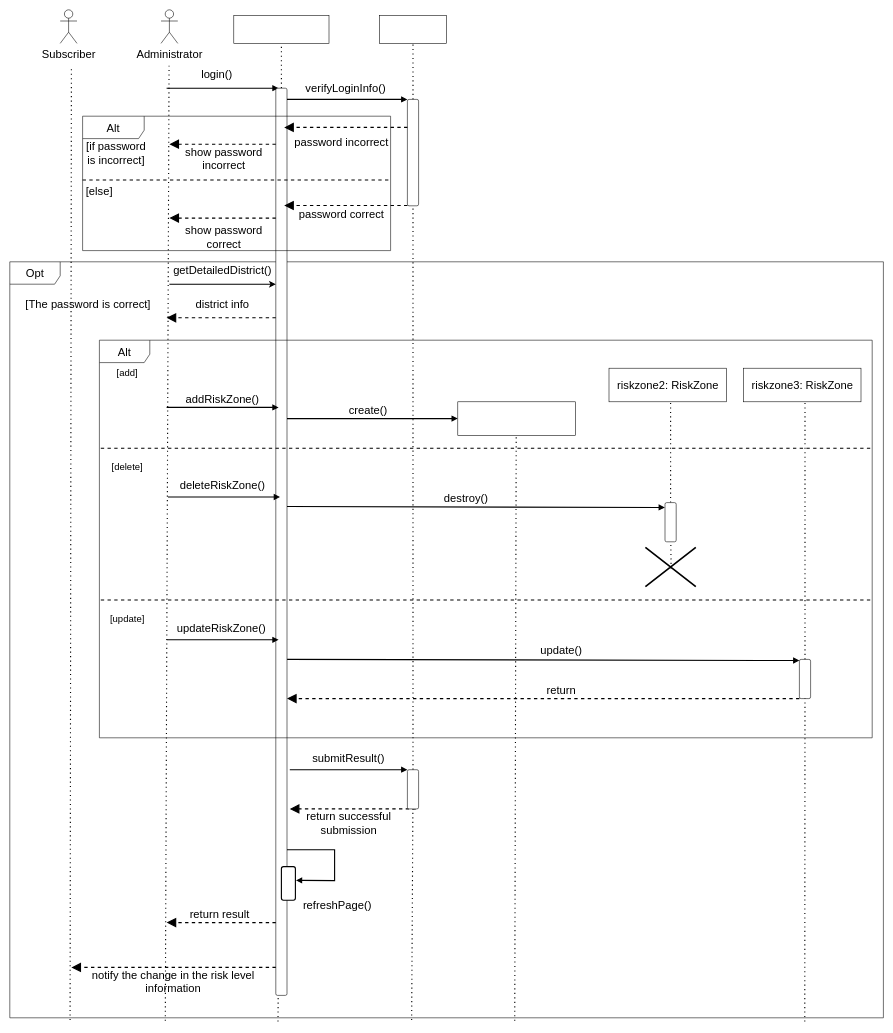
Image size: 893x1033. Some labels were removed from this diagram. Here are the shapes that lost their labels. From the top down, the box of each, then its label:
(233, 15, 329, 43): :Admin Main Page
(379, 15, 447, 43): :Risk System
(457, 401, 575, 435): riskzone1: RiskZone
